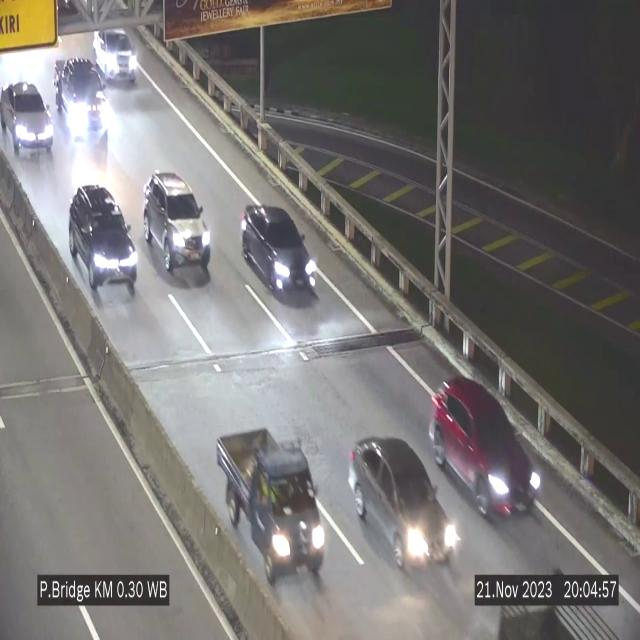Car: (345, 430, 461, 580), (433, 381, 539, 528), (69, 185, 137, 299), (144, 172, 210, 278), (241, 204, 317, 296), (53, 56, 117, 141), (0, 71, 56, 164), (94, 25, 136, 85)
Truck: (215, 428, 324, 585)
